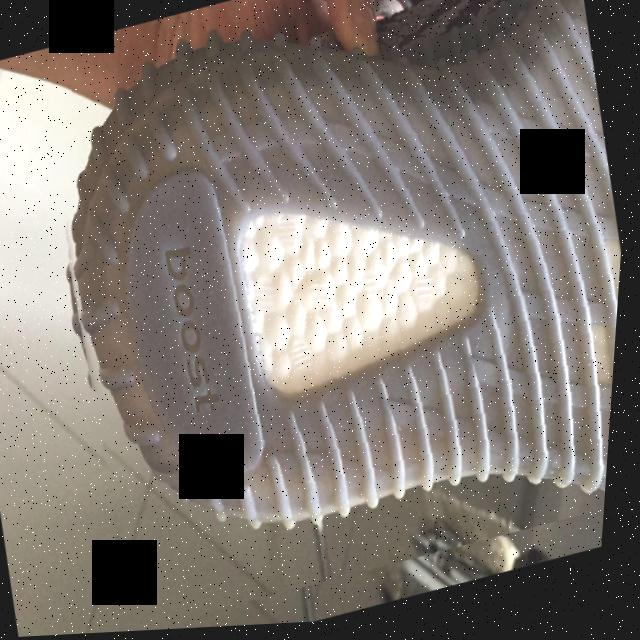shoe: (4, 0, 640, 638)
